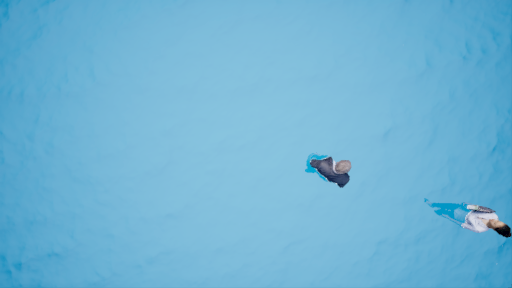person: (421, 196, 512, 242), (303, 151, 354, 189)
